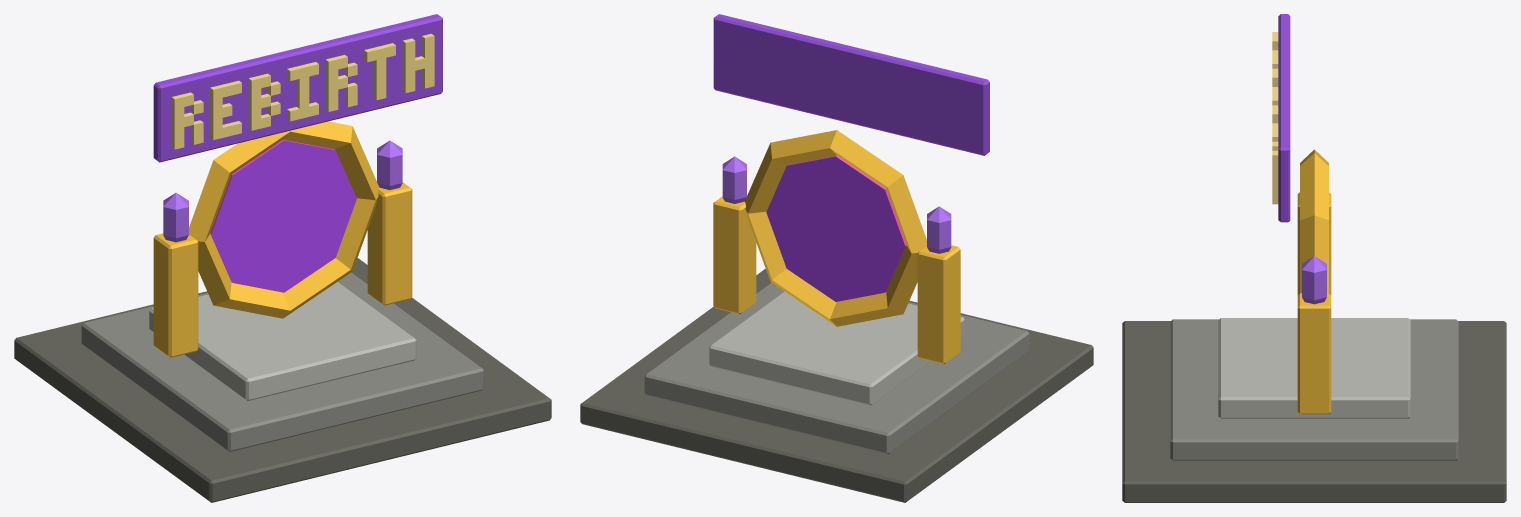
Rendered from RebirthShrine.fbx.
3 views of the same model, side by side, from view 1: azimuth 30°, elevation 25°; view 2: azimuth 150°, elevation 25°; view 3: azimuth 270°, elevation 25° (orthographic). The views are drawn at different scales.
Visible parts, largest first — view 1: RebirthShrine, RebirthShrine_Portal; view 2: RebirthShrine, RebirthShrine_Portal; view 3: RebirthShrine, RebirthShrine_Portal.
Boxes of the visible parts, bbox=[...] form: RebirthShrine: bbox=[14, 14, 551, 502]; RebirthShrine_Portal: bbox=[189, 121, 379, 318]; RebirthShrine: bbox=[580, 14, 1093, 502]; RebirthShrine_Portal: bbox=[744, 130, 926, 326]; RebirthShrine: bbox=[1122, 14, 1506, 502]; RebirthShrine_Portal: bbox=[1300, 149, 1328, 293].
Bounding box in the file's own units: 16 × 15.73 × 16.
1 material, 1 textured.
